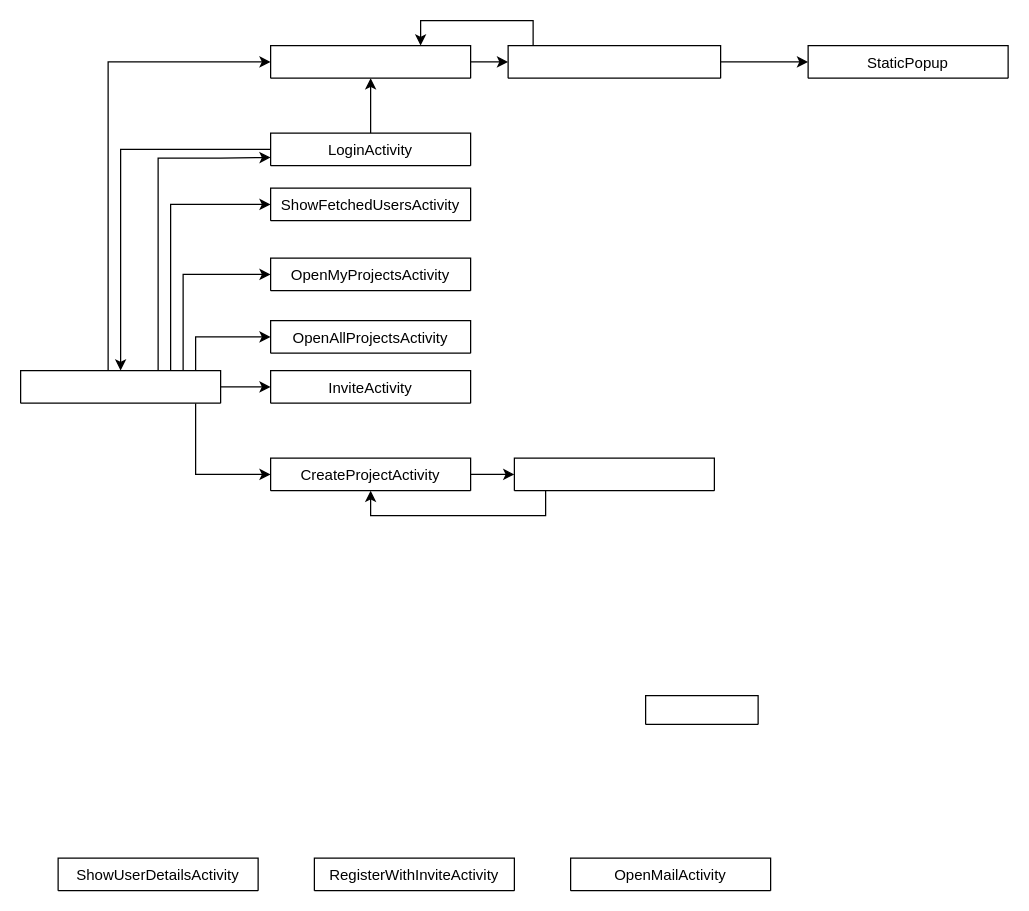
This 1029x911 diagram has some shape labels left out. Each missing label, with the centre of its shape:
CheckForInviteActivity: (370,61)
CheckForInviteActivity_Page2: (614,61)
CreateProjectActivity_Page2: (613,474)
dummies: (701,709)
WelcomeActivity: (120,386)
